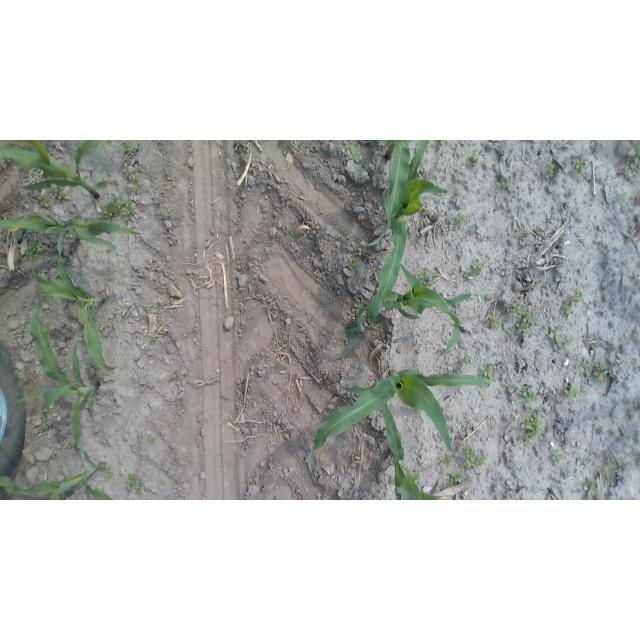Maize: (306, 368, 498, 488), (333, 262, 495, 362), (367, 141, 449, 334), (13, 296, 102, 454), (27, 251, 118, 377), (379, 391, 442, 500), (1, 141, 112, 201), (0, 215, 148, 257), (355, 142, 412, 249), (1, 455, 114, 500)
Weeds: (96, 196, 136, 223), (518, 415, 544, 441), (461, 444, 486, 469), (561, 290, 584, 317), (511, 306, 534, 332), (417, 267, 440, 289), (24, 238, 45, 262), (125, 473, 146, 496), (592, 362, 611, 383), (347, 142, 363, 166), (548, 323, 564, 347), (573, 156, 588, 178), (561, 384, 579, 402), (121, 141, 144, 154), (51, 185, 69, 201), (519, 387, 537, 403), (628, 141, 639, 166), (465, 264, 483, 279), (587, 477, 601, 496), (481, 364, 496, 381), (131, 175, 144, 194), (487, 314, 503, 329), (345, 255, 360, 271), (36, 195, 52, 209), (467, 150, 480, 167), (437, 453, 452, 467), (37, 409, 51, 424), (448, 473, 464, 486), (603, 463, 616, 478), (578, 358, 591, 373), (544, 163, 557, 177), (564, 336, 578, 349), (458, 355, 472, 368), (454, 211, 467, 225), (550, 452, 564, 464), (102, 468, 114, 482), (285, 225, 297, 237), (521, 228, 533, 239), (500, 179, 512, 190), (154, 197, 164, 207), (618, 191, 627, 202), (509, 415, 517, 427), (436, 140, 448, 148), (149, 335, 158, 345), (147, 436, 157, 445), (236, 223, 245, 233), (81, 248, 91, 257), (65, 441, 76, 449), (537, 146, 545, 154)
